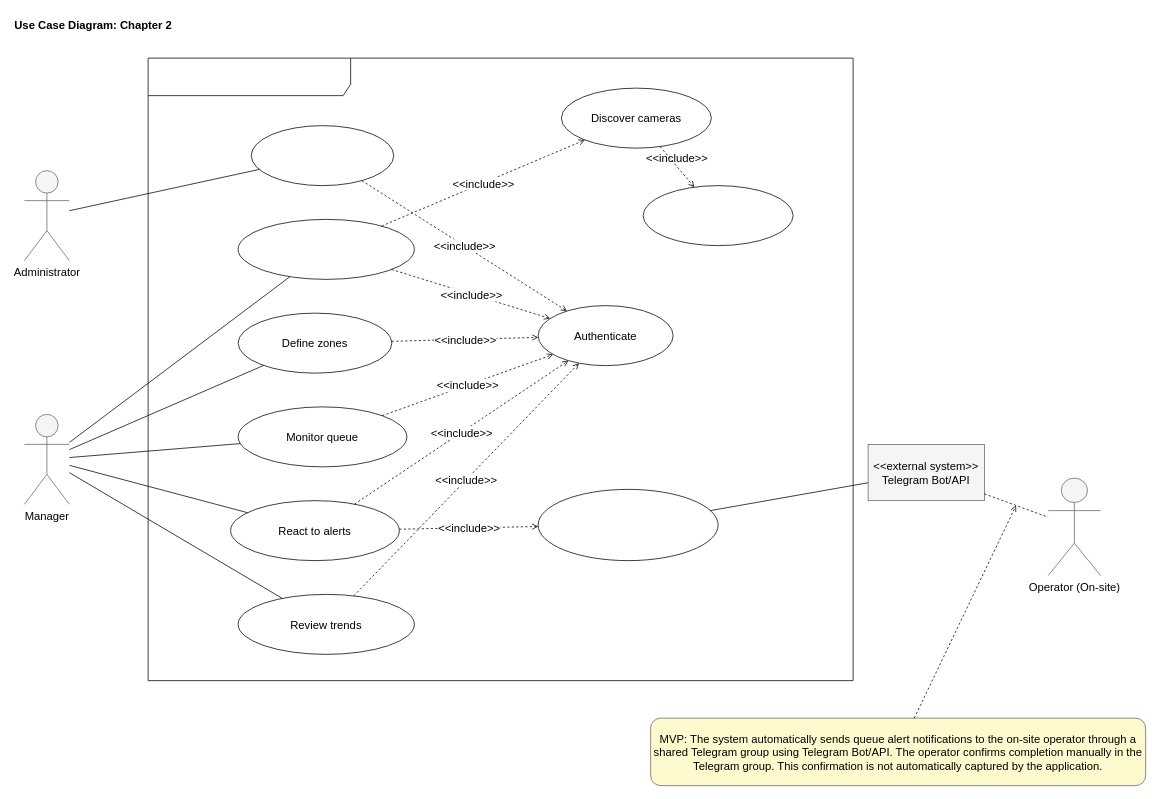
Some shapes in this 1159 by 799 pixel diagram are drawn without their labels. Each missing label, with the box of its shape:
Configure feeds: (237, 219, 414, 279)
Manage accounts: (250, 125, 394, 186)
Notify on-site operator via Telegram: (537, 489, 718, 561)
Queue Wait-Time System: (147, 57, 853, 681)
Test stream: (642, 185, 793, 246)
